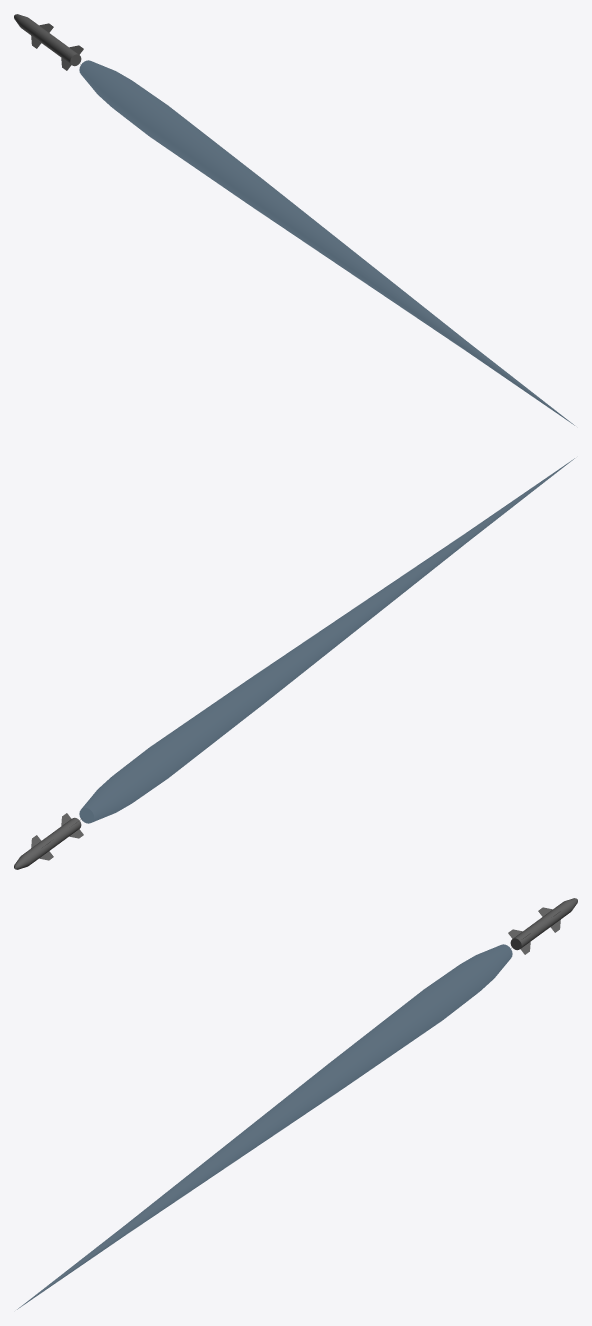
3 views of the same model, one above another, from view 1: azimuth 30°, elevation 25°; view 2: azimuth 150°, elevation 25°; view 3: azimuth 330°, elevation 25° (orthographic).
Visible parts, largest first — view 1: burst-missile-after-burner, burst-missile; view 2: burst-missile-after-burner, burst-missile; view 3: burst-missile-after-burner, burst-missile.
Boxes of the visible parts, x1=… form: burst-missile-after-burner: x1=79, y1=60, x2=574, y2=425; burst-missile: x1=14, y1=14, x2=83, y2=70; burst-missile-after-burner: x1=79, y1=458, x2=574, y2=823; burst-missile: x1=14, y1=813, x2=83, y2=869; burst-missile-after-burner: x1=17, y1=944, x2=512, y2=1309; burst-missile: x1=508, y1=898, x2=577, y2=954.
Bounding box in the file's own units: 1.54 × 1.54 × 47.6.
2 materials, 1 textured.
